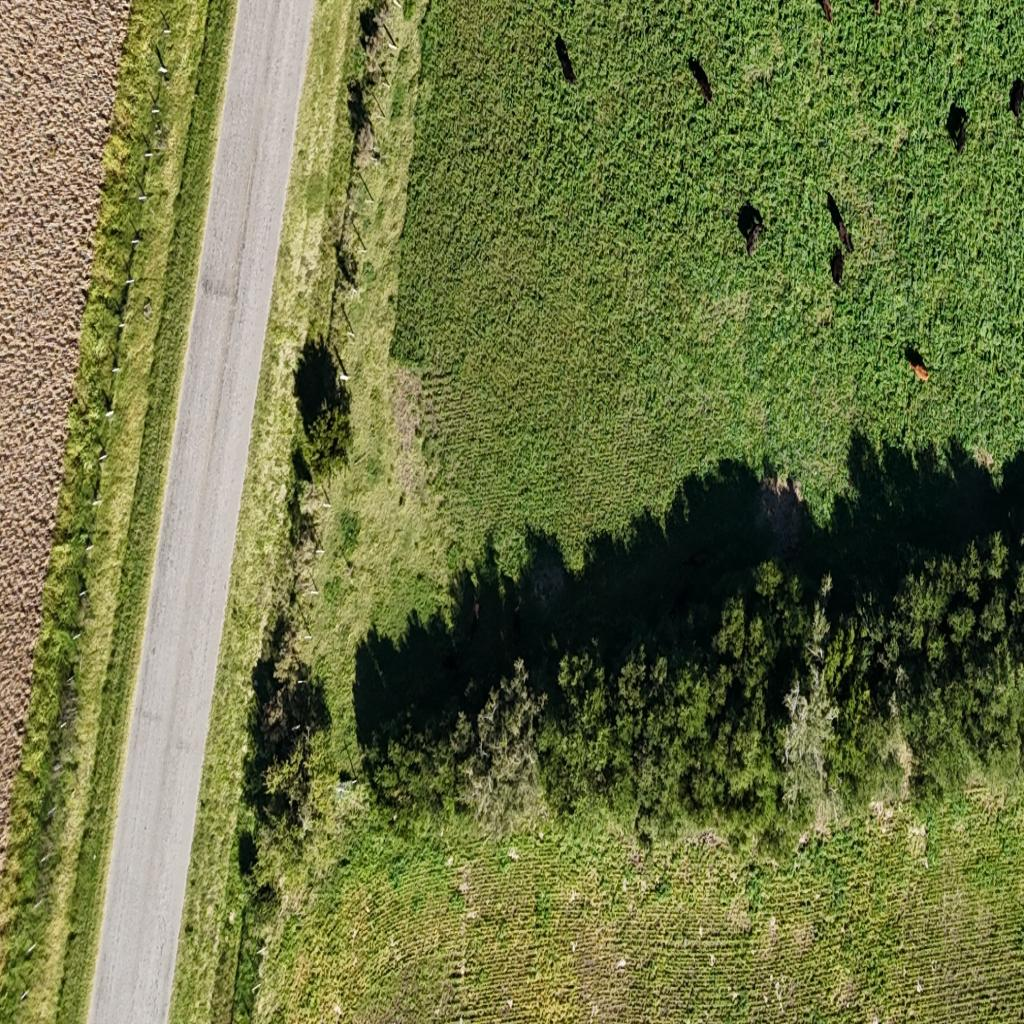cow: (827, 192, 855, 257), (738, 204, 766, 258), (689, 54, 713, 105), (946, 101, 968, 154), (905, 343, 931, 383), (554, 34, 576, 74), (1007, 76, 1024, 121), (829, 245, 845, 288), (820, 0, 834, 24)
